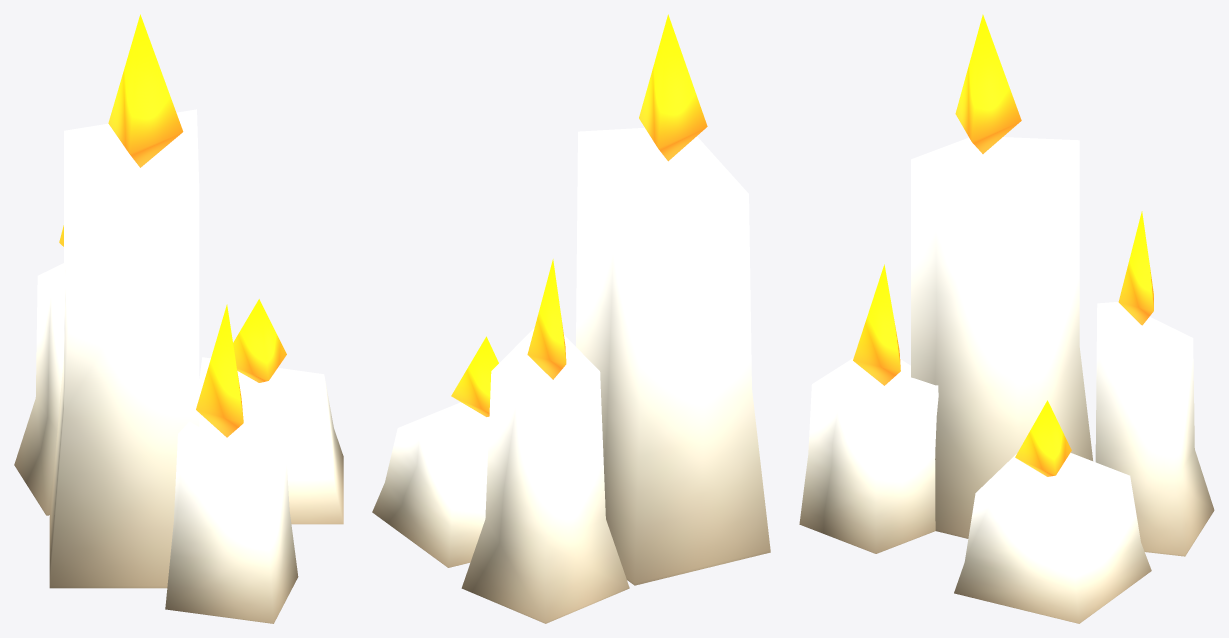
The model's file is deco_cathedral_candleGroup_B.FBX.
The picture shows the model from 3 angles, left to right: view 1: azimuth 30°, elevation 25°; view 2: azimuth 150°, elevation 25°; view 3: azimuth 270°, elevation 25°; orthographic projection. The views are drawn at different scales.
Visible parts, largest first — view 1: deco_cathedral_candleGroup_B; view 2: deco_cathedral_candleGroup_B; view 3: deco_cathedral_candleGroup_B.
Boxes of the visible parts, left/top/right/bottom form: deco_cathedral_candleGroup_B: left=14, top=14, right=343, bottom=623; deco_cathedral_candleGroup_B: left=372, top=14, right=770, bottom=623; deco_cathedral_candleGroup_B: left=799, top=14, right=1214, bottom=623.
Size of the model in its own units: 0.6591 by 0.9648 by 0.7318.
Materials: 1 (1 with a texture image).
